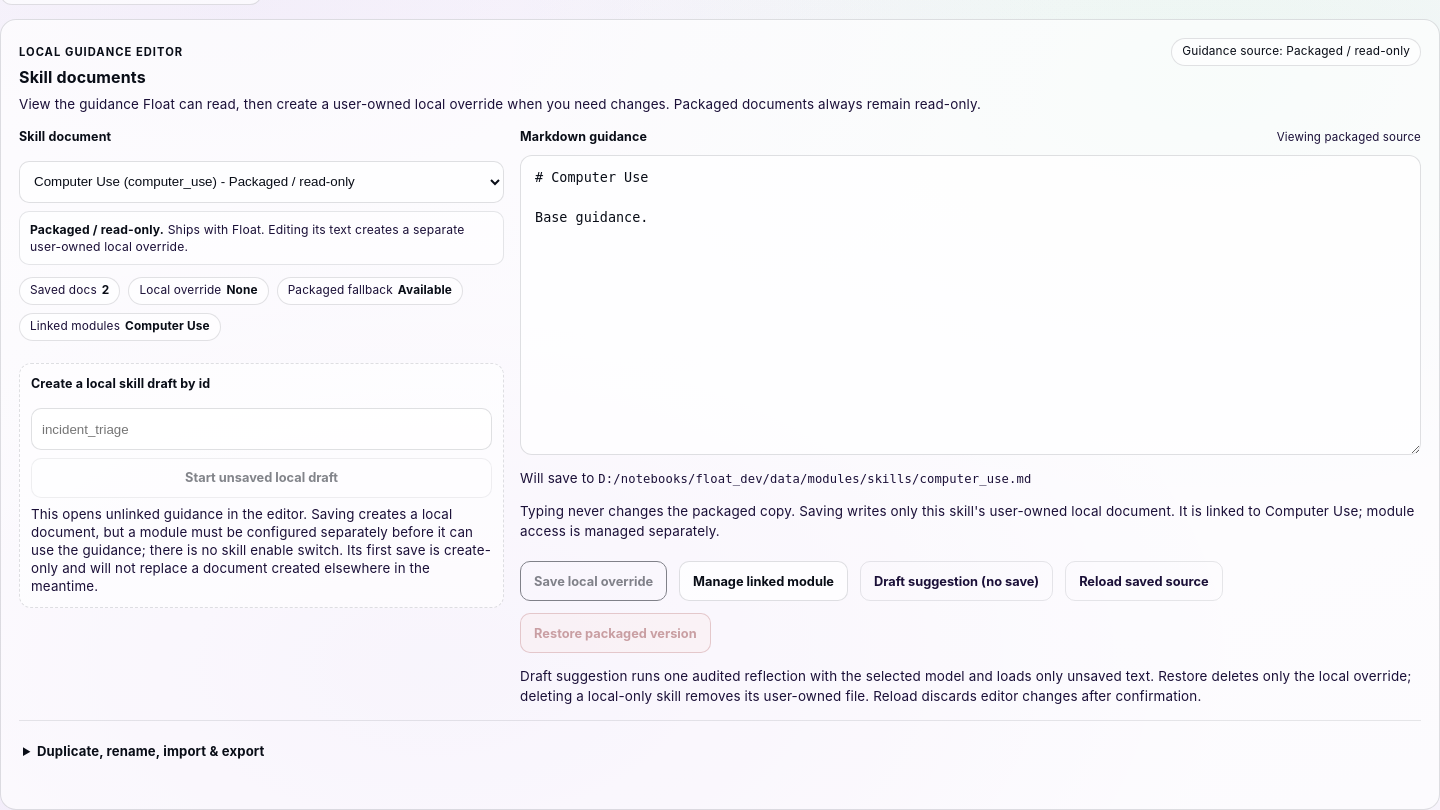
Scenario: KnowledgeSkillsTab › hands a linked skill off to the selected and focused module
(page scrolled)
Click the button "Manage linked module": (764, 581) [679,561,848,601]
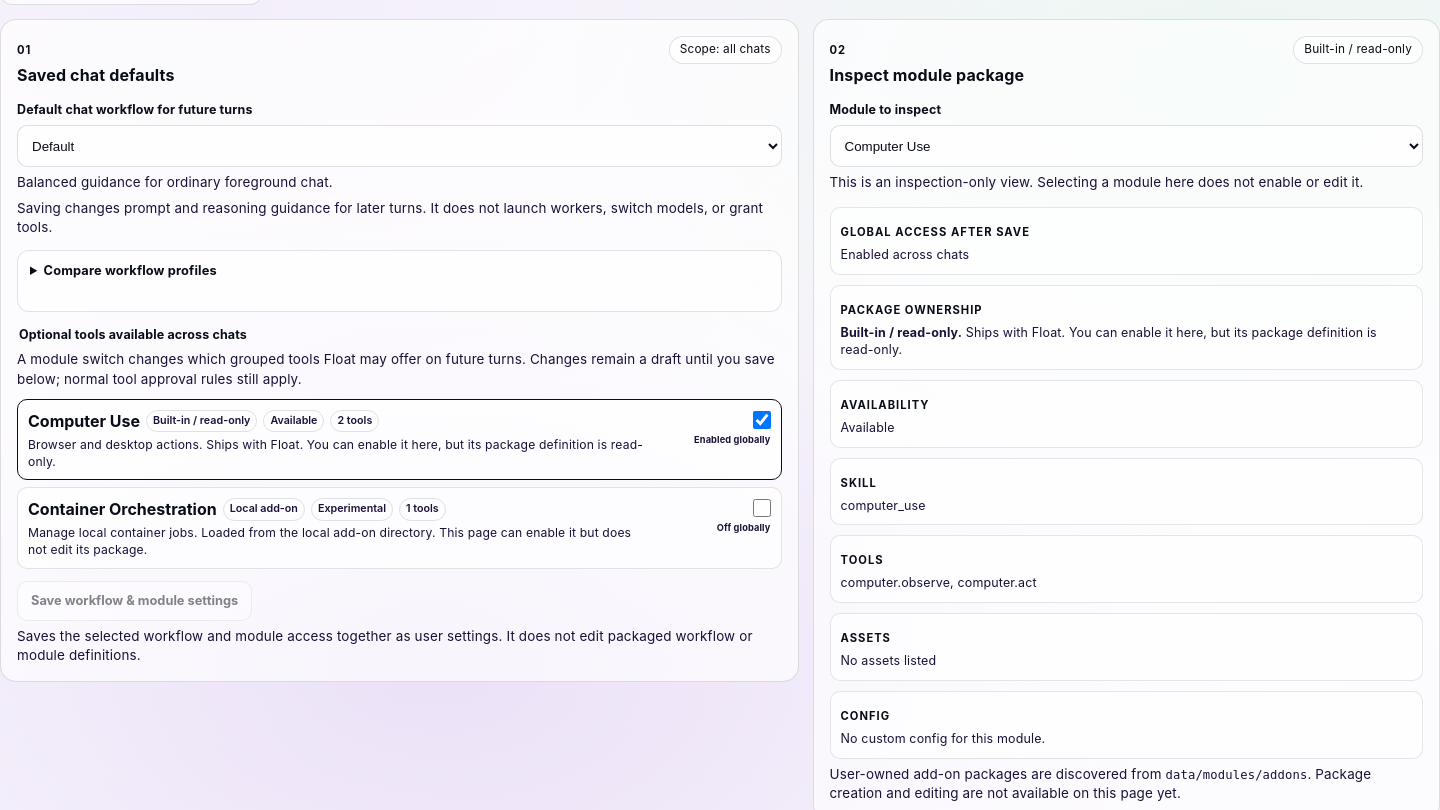
Result: the dropdown labelled "Module to inspect" shows "Computer Use" at [830,125,1423,167]
